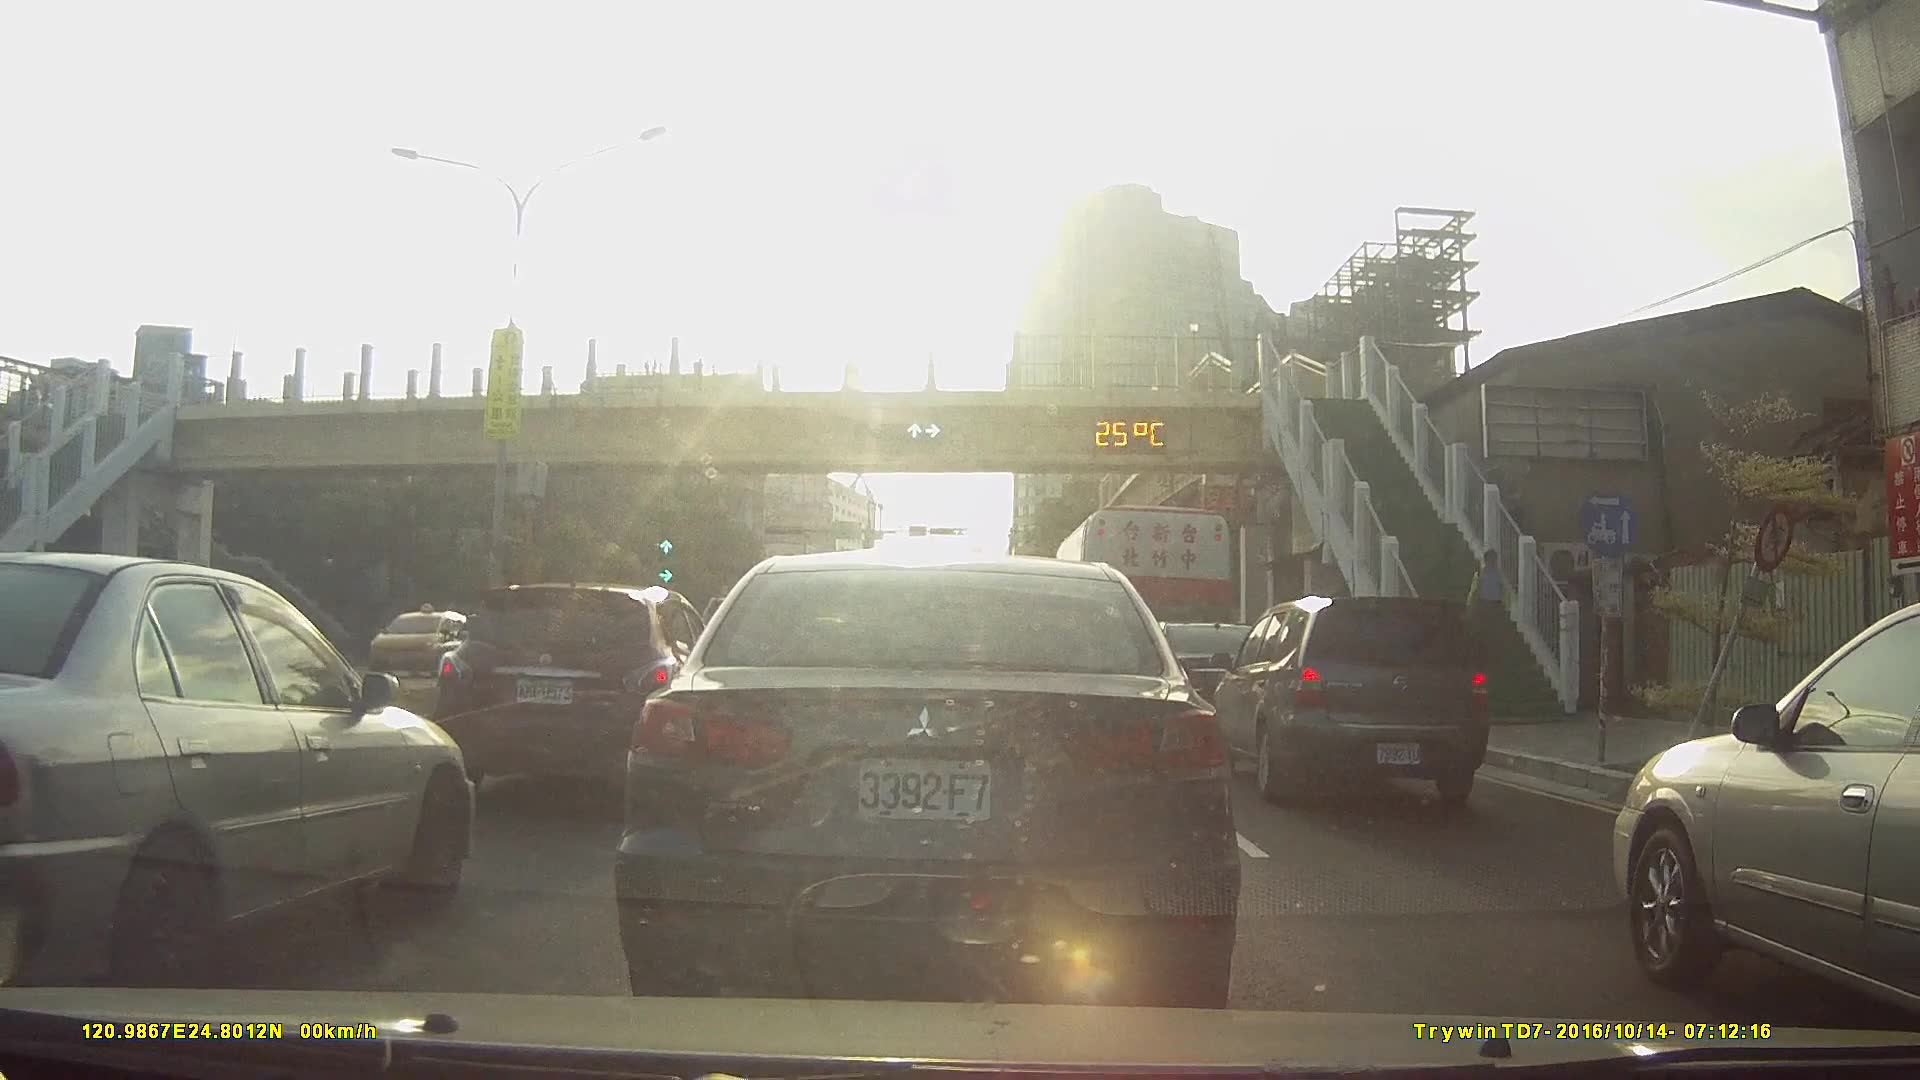pedestrian: (1467, 546, 1515, 652)
vehicle: (611, 553, 1242, 1004), (1, 551, 481, 991), (1599, 597, 1920, 1016), (1206, 594, 1503, 805), (438, 580, 726, 793), (1105, 615, 1283, 736), (368, 610, 484, 687), (420, 611, 529, 682)
